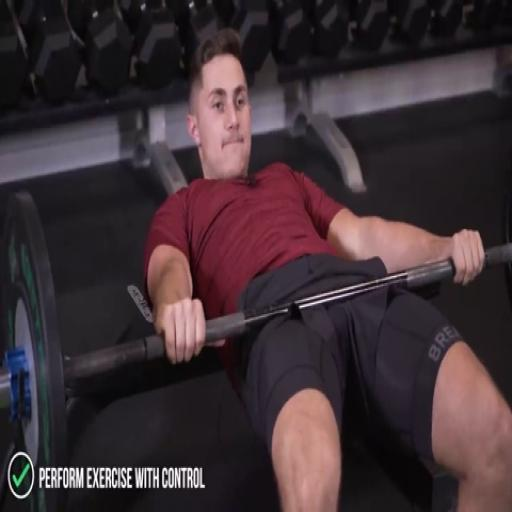exercise: (141, 28, 511, 510)
